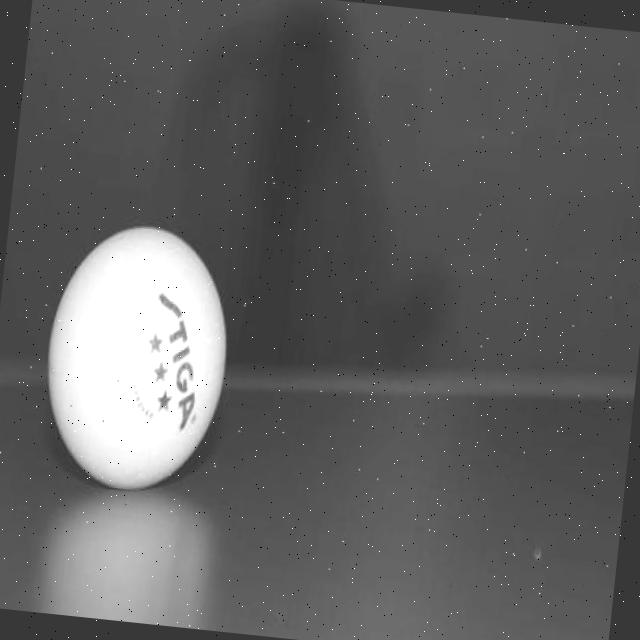ping-pong-ball: (32, 219, 238, 502)
